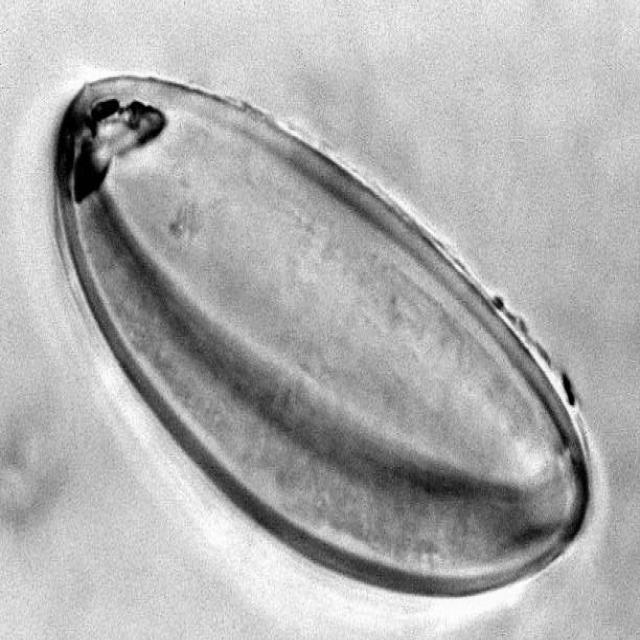Enterobius Vermicularis: (42, 50, 611, 610)
